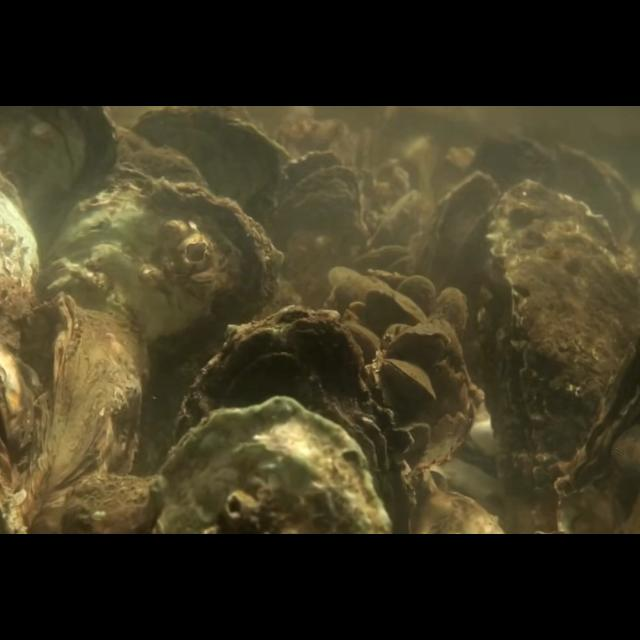Oyster-Closed: (51, 175, 285, 452), (174, 306, 414, 534), (477, 178, 637, 476), (152, 396, 390, 534), (382, 358, 436, 400), (386, 331, 450, 363)
Oyster-Indeterminate: (29, 291, 149, 535), (418, 170, 502, 326), (366, 288, 426, 324), (397, 274, 437, 322), (436, 286, 468, 338)
Oyster-Open: (266, 150, 362, 292)
